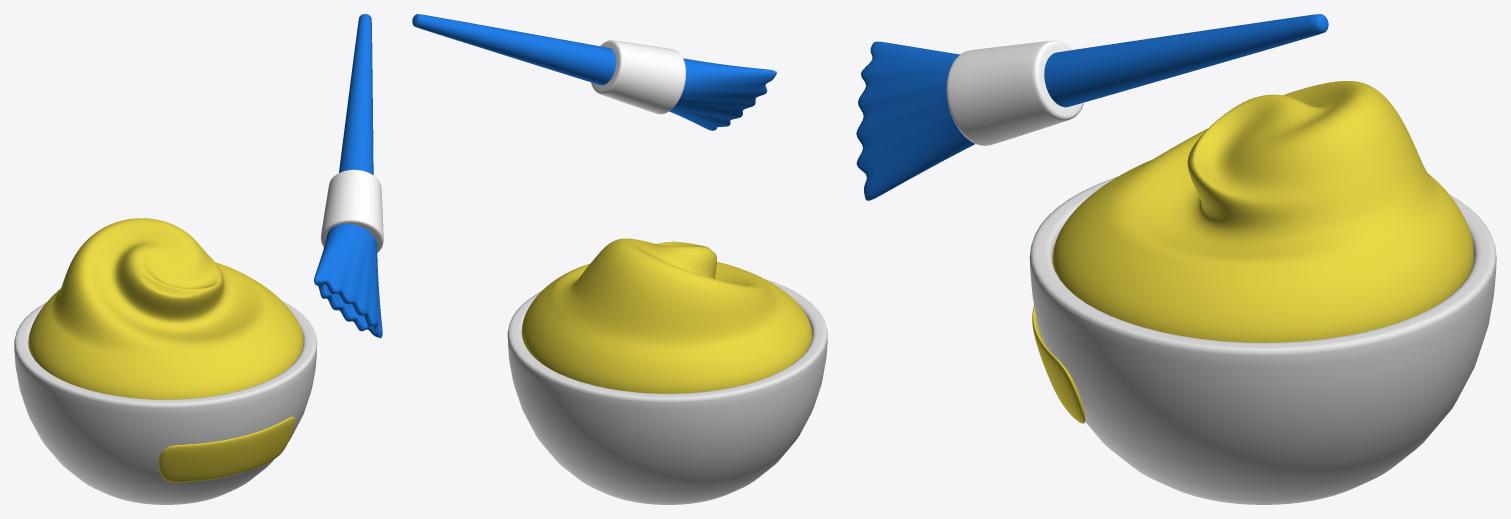
Rendered from hair-dye-3d-animated-icon-517326084172.glb.
The picture shows the model from 3 angles, left to right: view 1: azimuth 30°, elevation 25°; view 2: azimuth 150°, elevation 25°; view 3: azimuth 270°, elevation 25°; orthographic projection. The views are drawn at different scales.
Visible parts, largest first — view 1: Cylinder.057, Cylinder.058, Cylinder.060, Cylinder.063, Cylinder.061, Cylinder.059; view 2: Cylinder.057, Cylinder.058, Cylinder.061, Cylinder.060, Cylinder.059; view 3: Cylinder.057, Cylinder.058, Cylinder.060, Cylinder.061, Cylinder.059, Cylinder.063.
Part boxes in pixels (left/top/right/bottom): Cylinder.057: left=28, top=218, right=303, bottom=399; Cylinder.058: left=14, top=301, right=317, bottom=504; Cylinder.060: left=314, top=224, right=382, bottom=338; Cylinder.063: left=158, top=416, right=295, bottom=482; Cylinder.061: left=339, top=14, right=373, bottom=174; Cylinder.059: left=320, top=169, right=383, bottom=252; Cylinder.057: left=521, top=238, right=812, bottom=393; Cylinder.058: left=507, top=279, right=827, bottom=504; Cylinder.061: left=412, top=14, right=616, bottom=85; Cylinder.060: left=669, top=58, right=776, bottom=130; Cylinder.059: left=591, top=40, right=685, bottom=114; Cylinder.057: left=1052, top=81, right=1473, bottom=342; Cylinder.058: left=1029, top=176, right=1496, bottom=504; Cylinder.060: left=856, top=41, right=974, bottom=200; Cylinder.061: left=1044, top=14, right=1328, bottom=107; Cylinder.059: left=946, top=40, right=1084, bottom=145; Cylinder.063: left=1032, top=305, right=1085, bottom=423.
Size of the model in its own units: 4.72 by 5.05 by 4.8.
